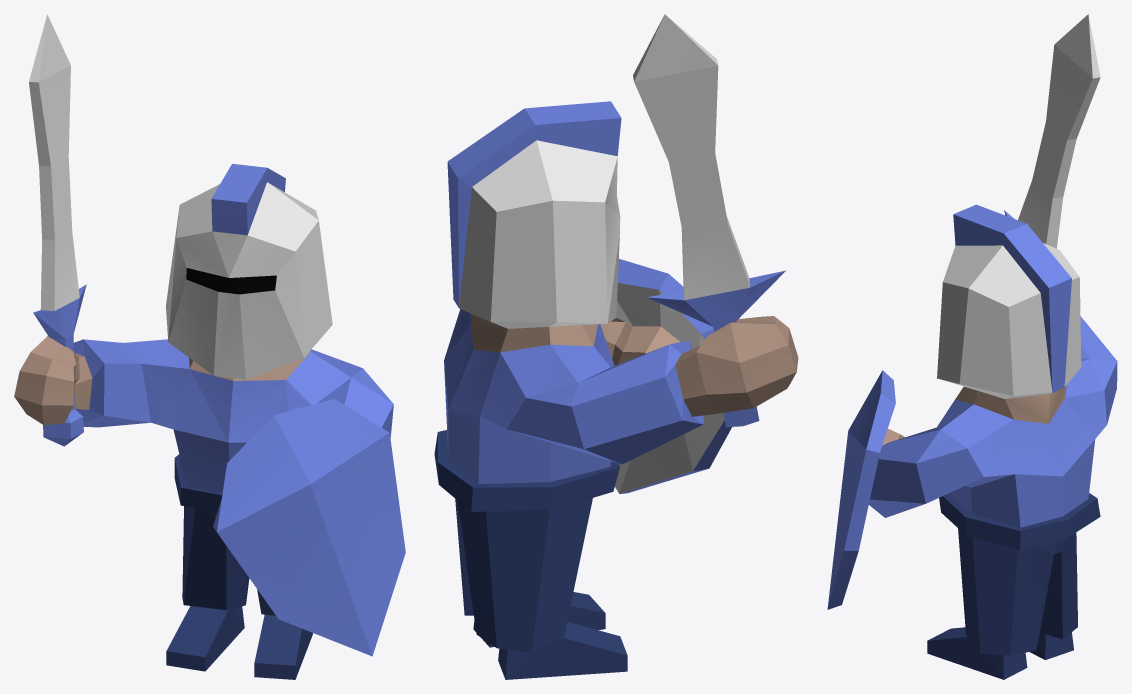
File: Knight-Blue.gltf
3 views of the same model, side by side, from view 1: azimuth 30°, elevation 25°; view 2: azimuth 150°, elevation 25°; view 3: azimuth 270°, elevation 25° (orthographic). The views are drawn at different scales.
Parts seen in each view (by area): view 1: Knight; view 2: Knight; view 3: Knight.
Boxes of the visible parts, x1,y1,x2,y2 form: Knight: (14,14,405,679); Knight: (434,14,798,679); Knight: (827,14,1117,679).
Bounding box in the file's own units: 1.38 × 2.57 × 1.18.
